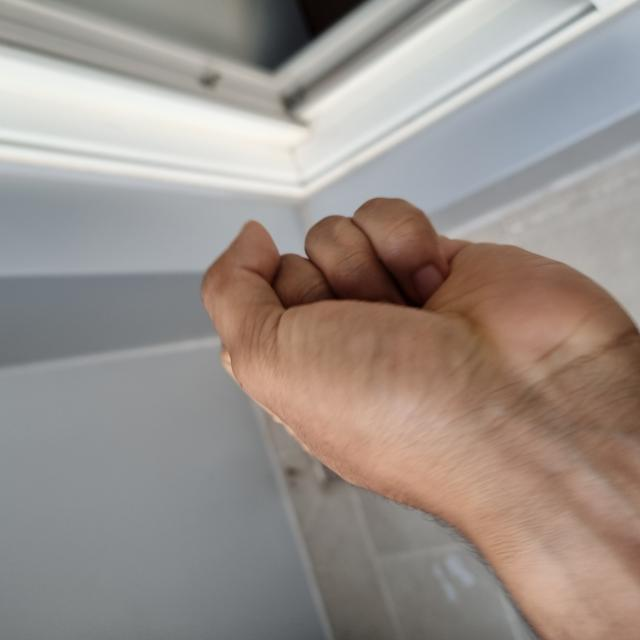Rock: (99, 198, 447, 637)
